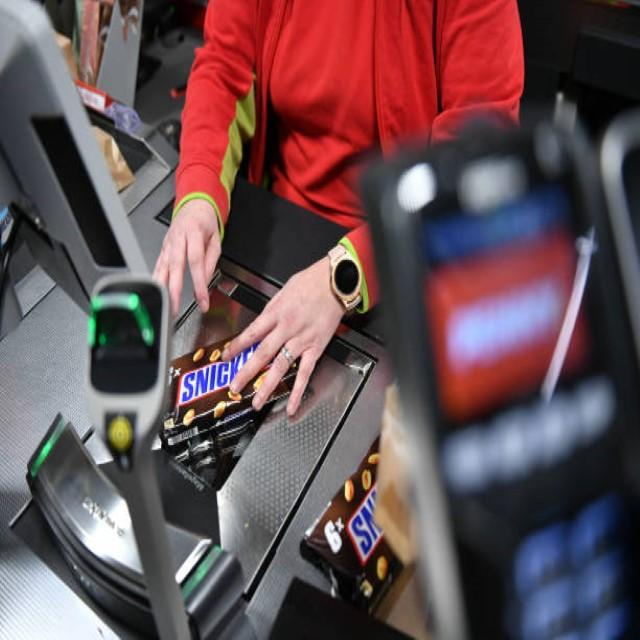snickers_chocolate: (180, 357, 320, 398)
